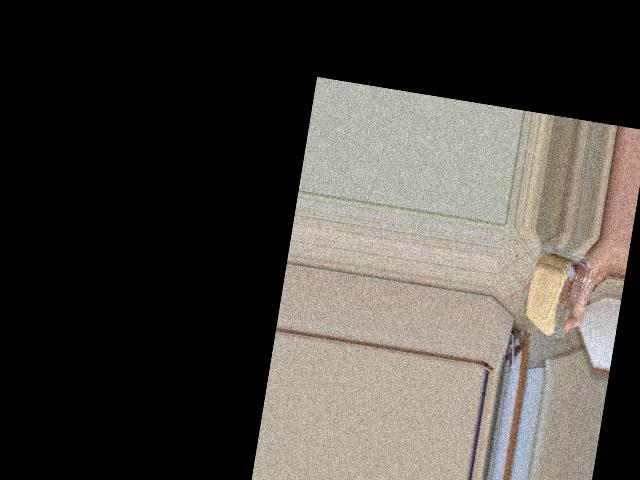cheese: (532, 241, 581, 321)
